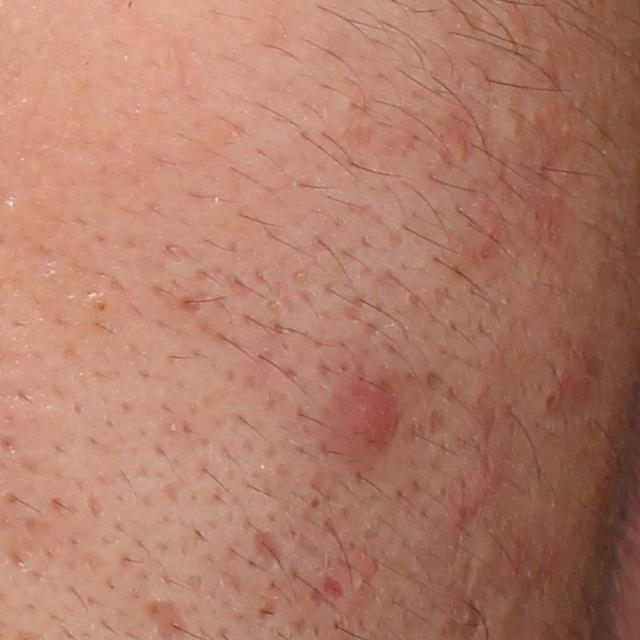atrophic_scar: (452, 553, 480, 627), (249, 523, 285, 572)
comedo: (86, 290, 112, 315), (542, 388, 561, 412), (305, 495, 324, 511)
papule: (333, 381, 410, 461)
